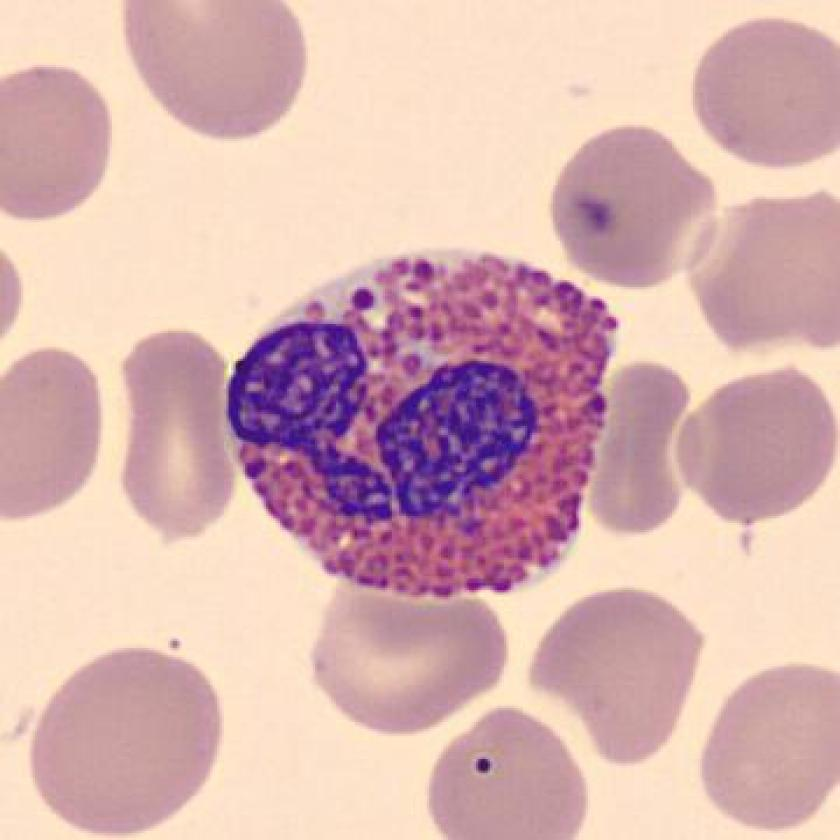eosinophil: (206, 228, 638, 612)
